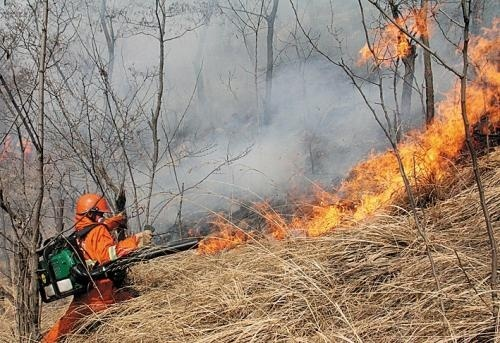fire: (274, 0, 498, 243), (0, 132, 34, 165)
